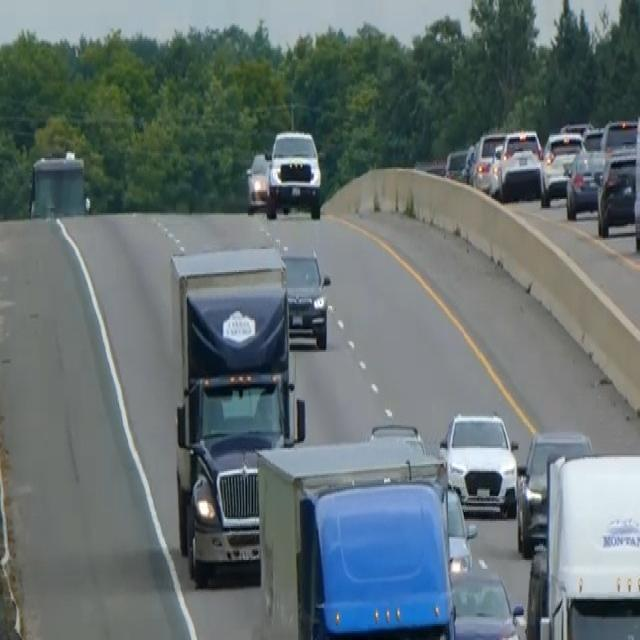bus: (26, 148, 91, 218)
car: (368, 420, 476, 576), (515, 426, 592, 554), (439, 409, 518, 517), (448, 564, 527, 638), (279, 244, 331, 350), (267, 126, 322, 217), (489, 126, 543, 201), (595, 146, 638, 236), (539, 128, 584, 206), (564, 148, 602, 218), (470, 128, 505, 192), (598, 115, 638, 169), (244, 150, 272, 213), (443, 144, 471, 183), (632, 110, 639, 252)
lorry: (167, 244, 305, 586), (255, 423, 463, 638), (525, 450, 639, 638)
